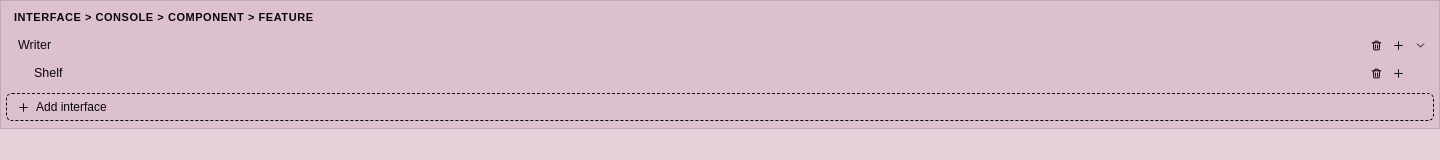
it: ResourceTree › collapsing a node with children hides them, expanding shows them again
expect the 2nd field showing "Shelf" is shown: met, box [30,63,1364,83]
Click the button named "Collapse" at (1420,45), box [1410,35,1430,55]
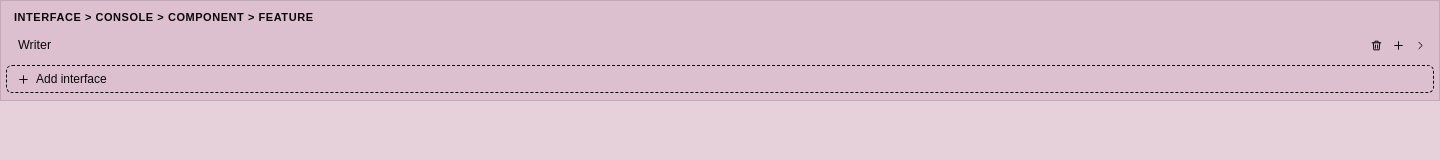
expect the field showing "Shelf" is not shown: met
Click the button named "Expand" at (1420,45), box [1410,35,1430,55]
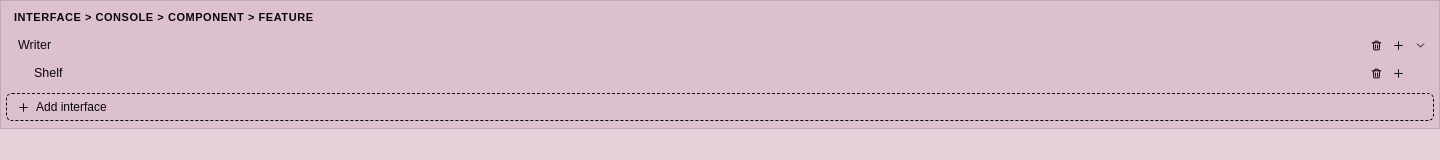
expect the 2nd field showing "Shelf" is shown: met, box [30,63,1364,83]
